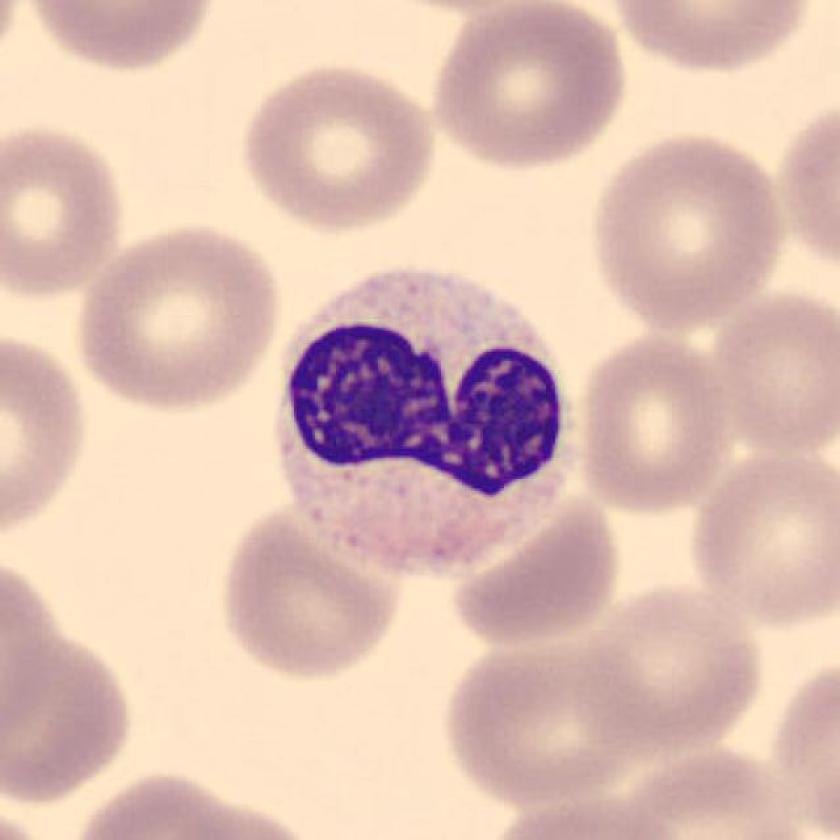neutrophil: (282, 273, 572, 581)
